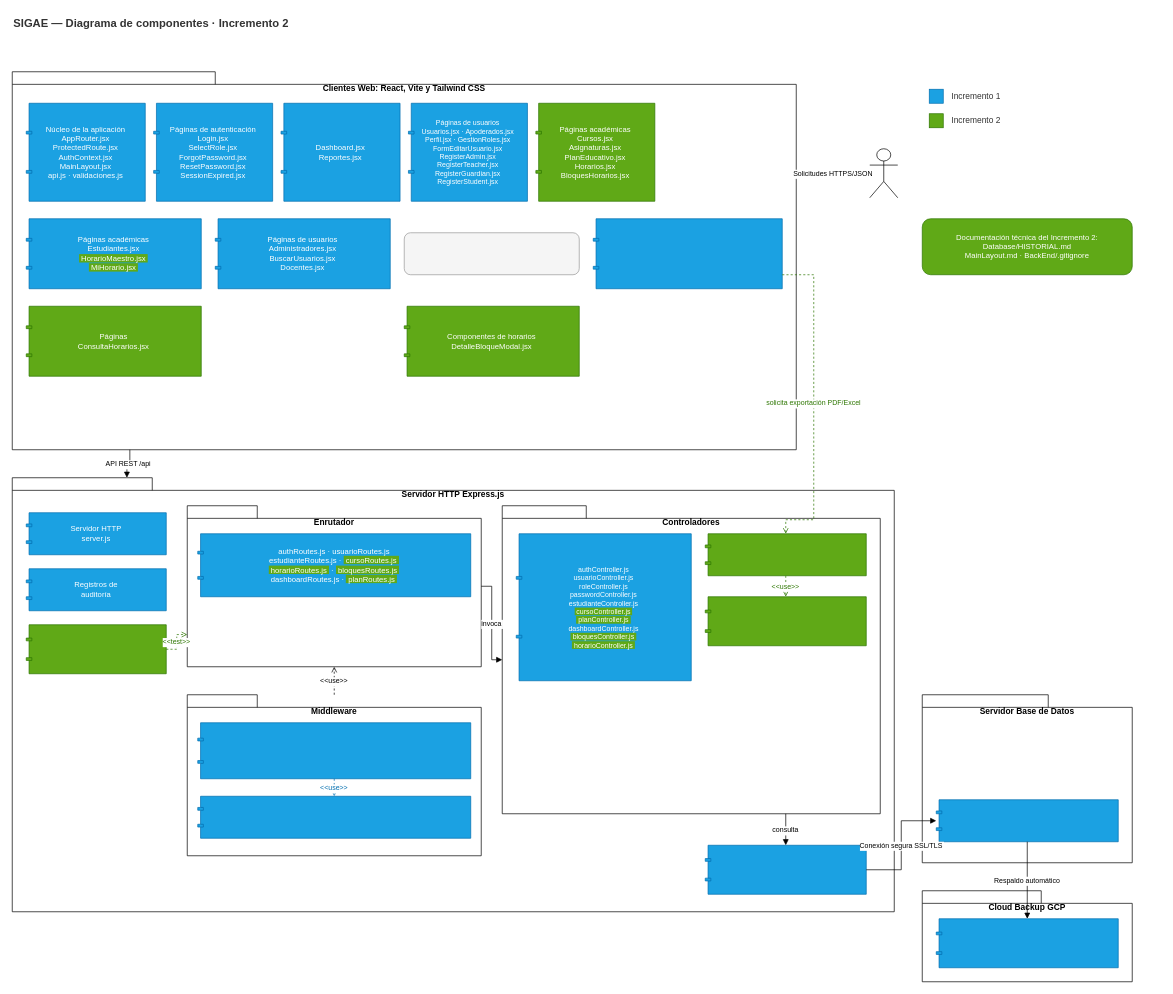
The diagram is 1173 pixels wide and 994 high, and some of its shapes have lost their labels. Here are the shapes that lost their labels. From the top down, the centre of each, then its label:
point 883,173: Usuario
point 491,253: Sidebar.jsx se integró en MainLayout.jsx durante el Incremento 2.
point 687,253: Componentes ExportMenu.jsx ListaEstudiantesApoderado.jsx
point 785,554: exportController.js CU60 a CU62
point 785,621: Librerías de exportación pdfkit · exceljs · puppeteer
point 96,649: Pruebas automatizadas Jest 17 archivos .test.js
point 334,750: authMiddleware.js rateLimiter.js validation.js
point 334,817: uploadFotoPerfil.js multer
point 1027,820: MySQL SIGAE.sql
point 785,869: Conexión Base de Datos config/db.js · mysql2
point 1027,943: Almacenamiento de respaldos Copias diarias
